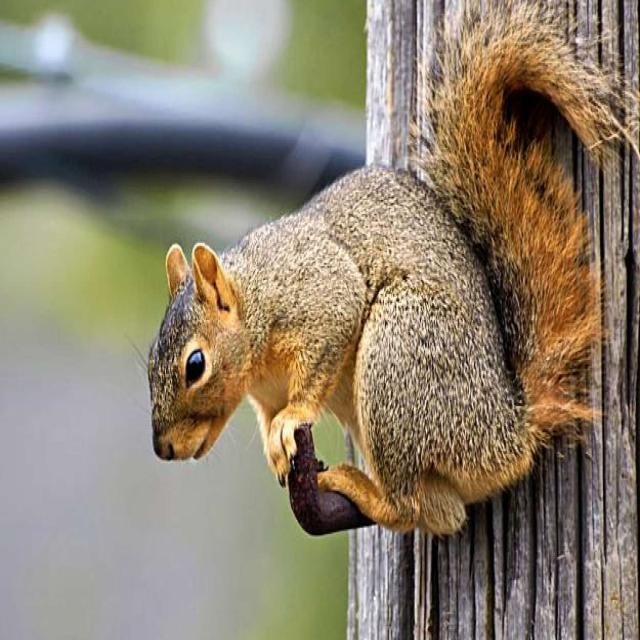Squirrel: (144, 30, 600, 524)
